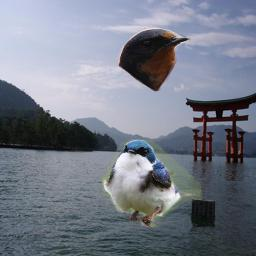Swallow: (102, 139, 202, 227), (117, 27, 192, 92)
